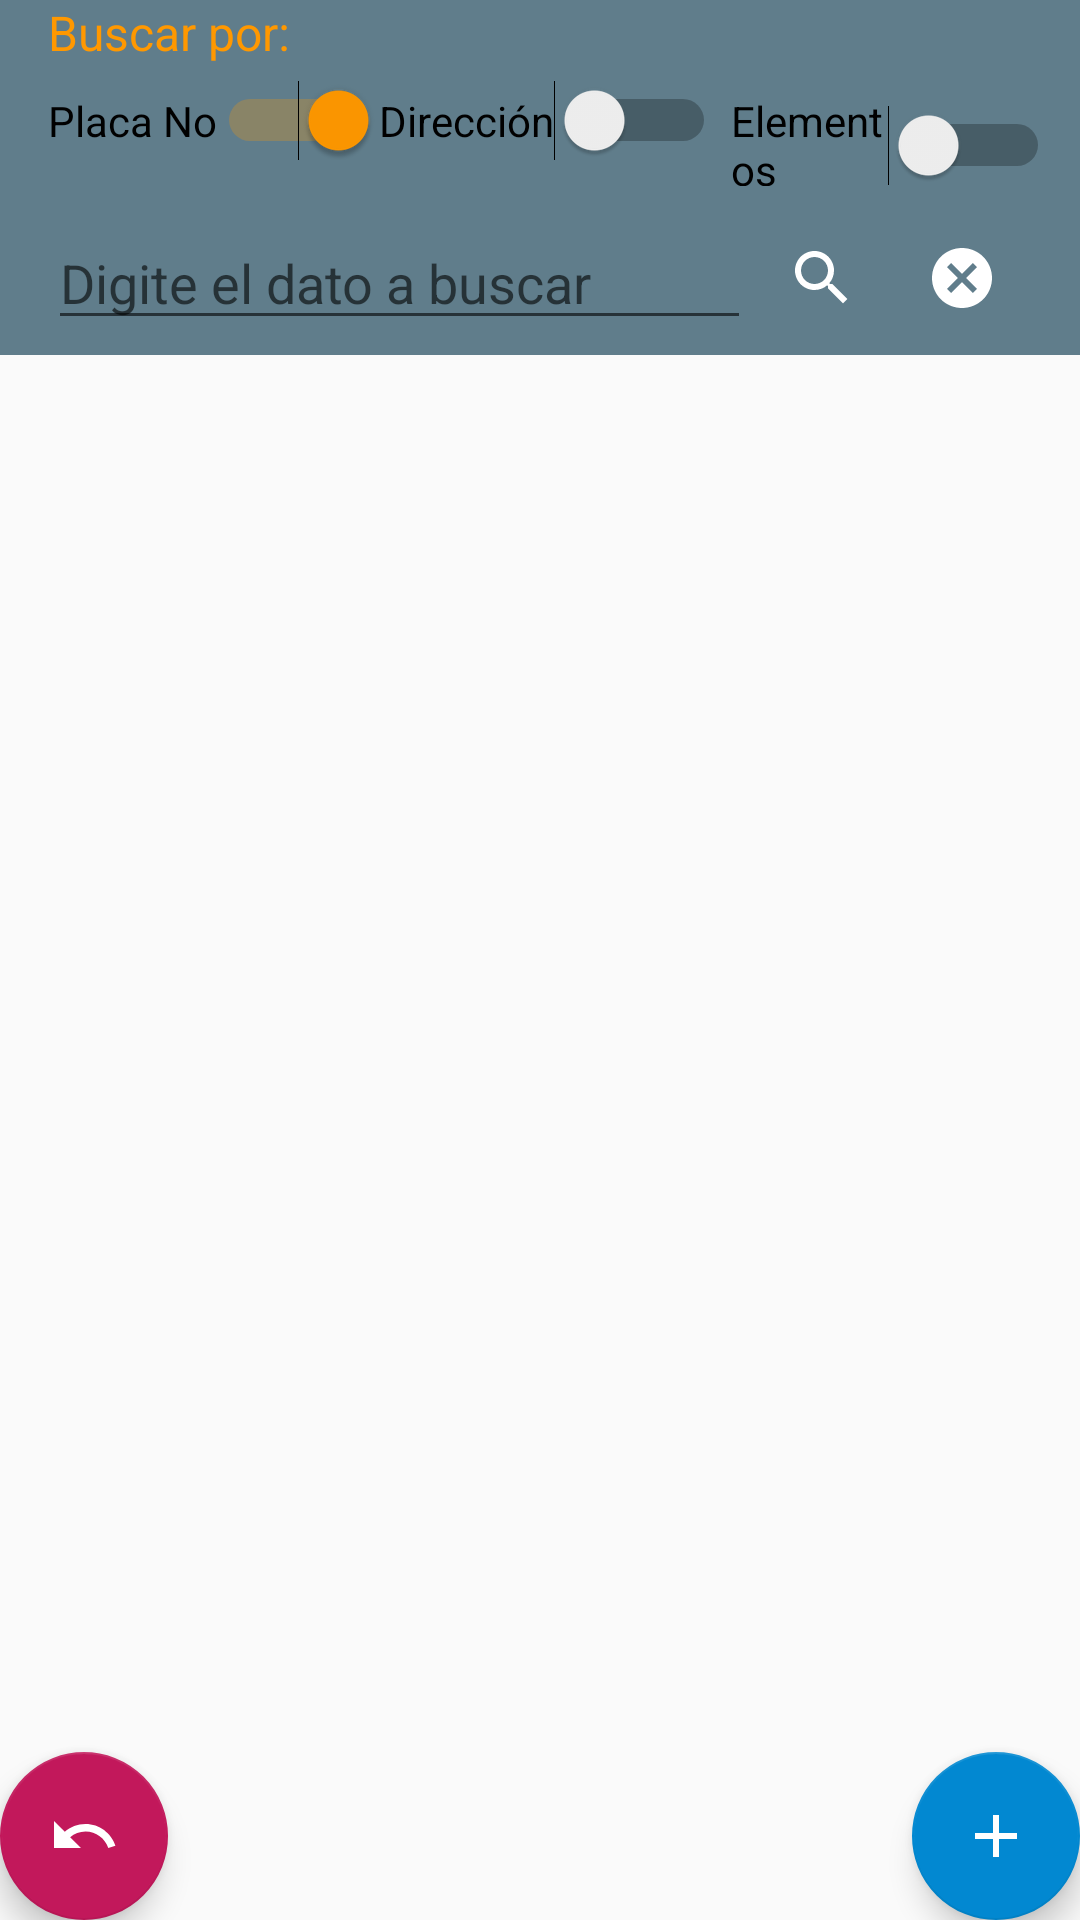

Icons on this 1080px×1920px Android screen, each with the point to tap as [x,y]:
add: [996,1836]
Buscar Elemento: [821,277]
cancel: [962,278]
undo: [84,1836]
